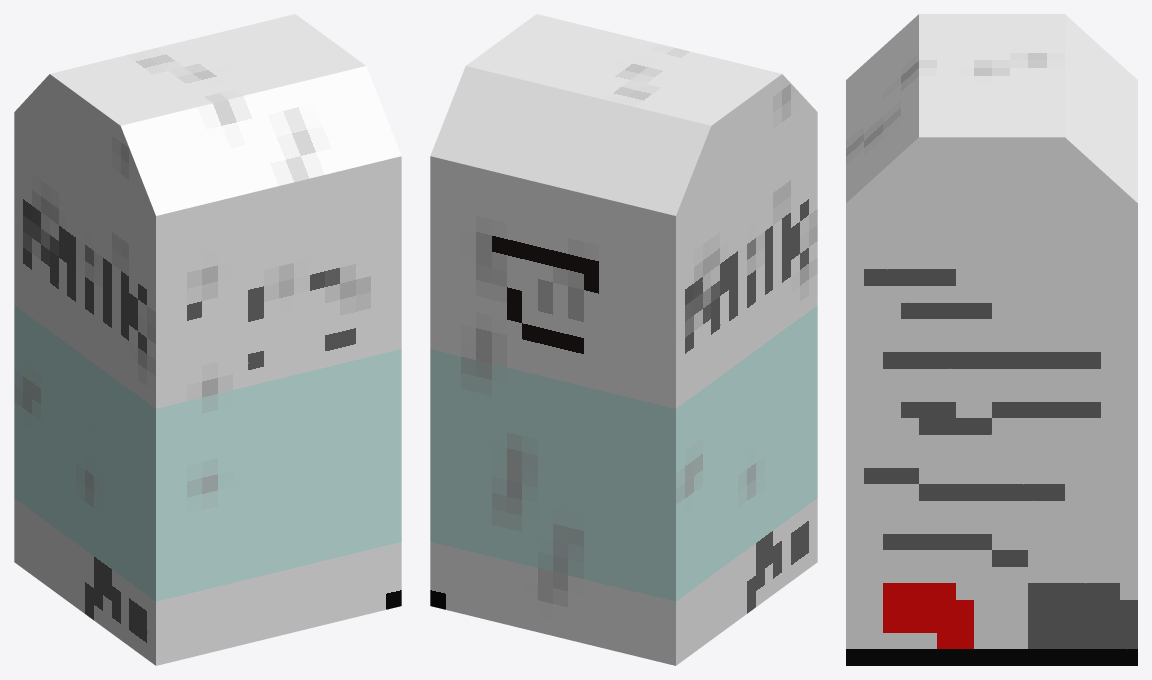
Rendered from milk.fbx.
The picture shows the model from 3 angles, left to right: view 1: azimuth 30°, elevation 25°; view 2: azimuth 150°, elevation 25°; view 3: azimuth 270°, elevation 25°; orthographic projection. The views are drawn at different scales.
Parts seen in each view (by area): view 1: cuboid; view 2: cuboid; view 3: cuboid.
Boxes of the visible parts, x1,y1,x2,y2 form: cuboid: [14, 14, 401, 665]; cuboid: [430, 14, 817, 665]; cuboid: [846, 14, 1137, 665].
Bounding box in the file's own units: 25 × 50 × 25.
Materials: 1 (1 with a texture image).
